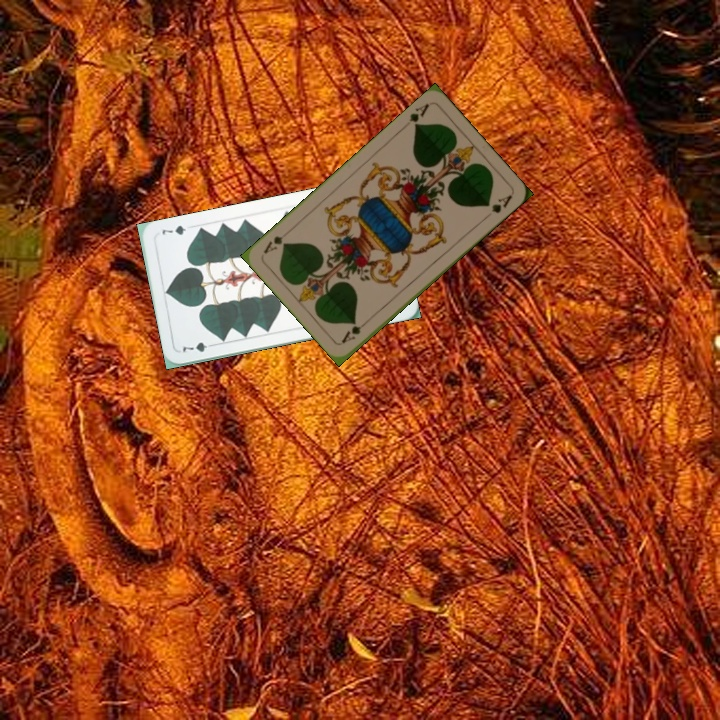G7: (178, 338, 218, 355)
GA: (337, 315, 372, 346), (405, 100, 432, 130)
